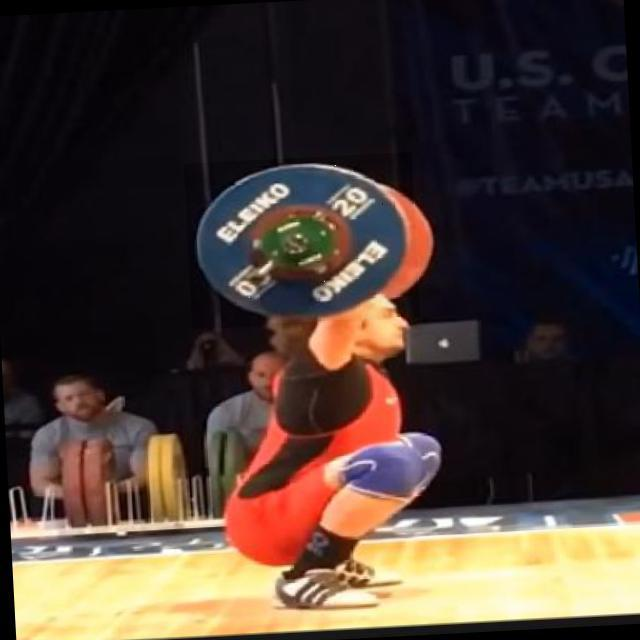barbell: (185, 153, 422, 331)
